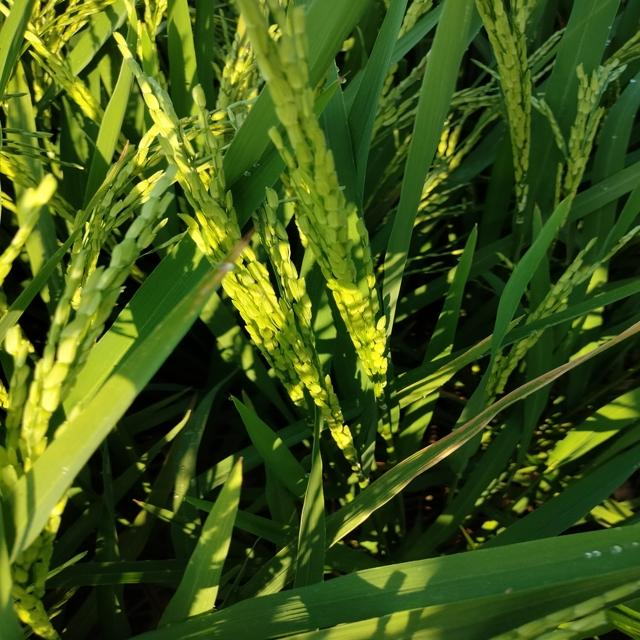Brown spot: (351, 310, 638, 536)
healthy: (193, 222, 265, 298)
